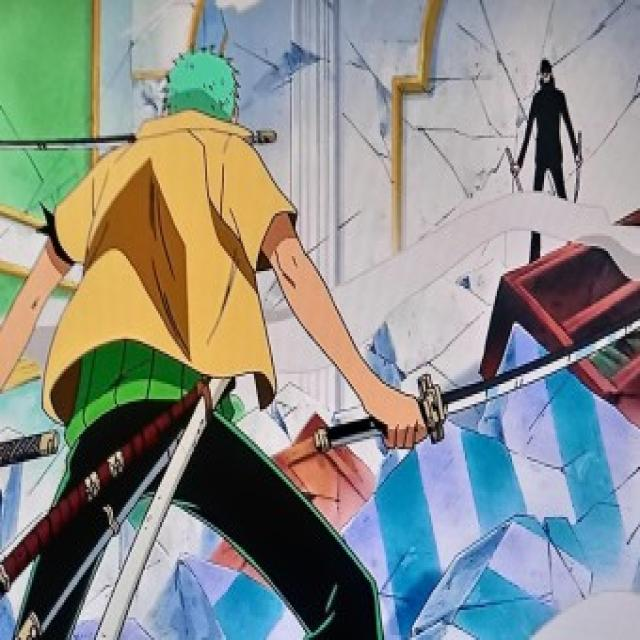Zoro: (136, 30, 270, 166)
